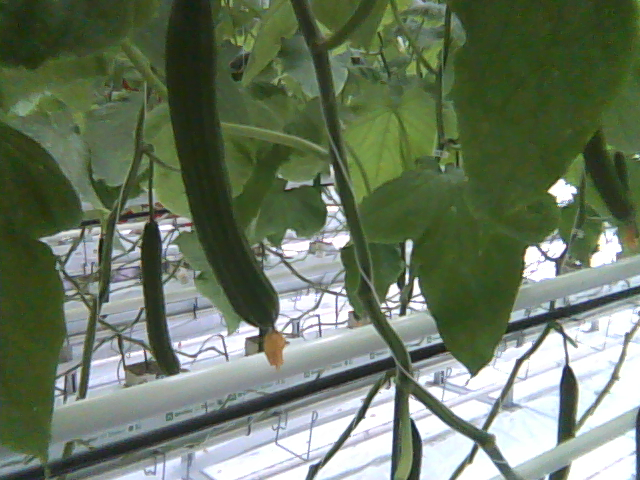concombre: (162, 1, 292, 371)
